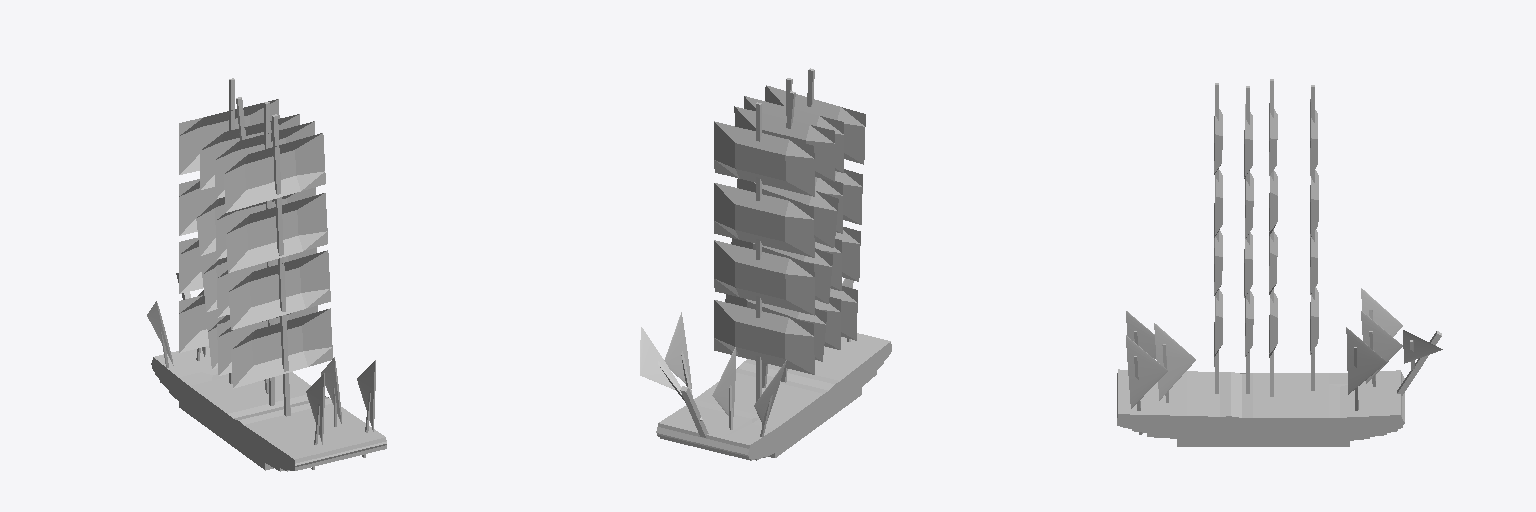
The model's file is clipper.obj.
3 renders of one model, left to right at view 1: azimuth 30°, elevation 25°; view 2: azimuth 150°, elevation 25°; view 3: azimuth 270°, elevation 25°, orthographic.
Visible parts, largest first — view 1: Cube_Cube.010, Plane.008_Plane.036, Plane.009_Plane.037, Plane.010_Plane.038, Plane.007_Plane.035, Plane.015_Plane.017, Plane.013_Plane.041, Plane.002_Plane.032, Plane.004_Plane.008, Cube.013_Cube.030, Plane.005_Plane.009, Plane.016_Plane.018 (+9 smaller); view 2: Cube_Cube.010, Plane.005_Plane.009, Plane.015_Plane.017, Plane.016_Plane.018, Plane.004_Plane.008, Plane.002_Plane.032, Plane.008_Plane.036, Plane.001_Plane.031, Plane.013_Plane.041, Plane.003_Plane.033, Plane.006_Plane.034, Plane.007_Plane.035 (+10 smaller); view 3: Cube_Cube.010, Cone.004, Cone.006, Cone, Cone.002, Cone.005, Cone.003, Cone.001.
Boxes of the visible parts, <box> form: Cube_Cube.010: <box>151,346,386,471</box>; Plane.008_Plane.036: <box>223,133,325,212</box>; Plane.009_Plane.037: <box>228,250,330,329</box>; Plane.010_Plane.038: <box>230,308,332,388</box>; Plane.007_Plane.035: <box>225,193,327,272</box>; Plane.015_Plane.017: <box>179,99,279,174</box>; Plane.013_Plane.041: <box>214,121,314,198</box>; Plane.002_Plane.032: <box>199,114,299,189</box>; Plane.004_Plane.008: <box>179,295,217,352</box>; Cube.013_Cube.030: <box>275,200,290,416</box>; Plane.005_Plane.009: <box>179,238,215,293</box>; Plane.016_Plane.018: <box>179,179,215,235</box>; Cube_Cube.010: <box>656,333,891,460</box>; Plane.005_Plane.009: <box>714,240,814,315</box>; Plane.015_Plane.017: <box>714,121,814,196</box>; Plane.016_Plane.018: <box>714,183,814,257</box>; Plane.004_Plane.008: <box>714,300,814,374</box>; Plane.002_Plane.032: <box>734,106,834,181</box>; Plane.008_Plane.036: <box>765,85,865,164</box>; Plane.001_Plane.031: <box>737,178,838,247</box>; Plane.013_Plane.041: <box>744,96,843,172</box>; Plane.003_Plane.033: <box>731,238,832,303</box>; Plane.006_Plane.034: <box>725,294,826,361</box>; Plane.007_Plane.035: <box>835,169,862,224</box>; Cube_Cube.010: <box>1117,369,1404,446</box>; Cone.004: <box>1126,335,1167,408</box>; Cone.006: <box>1154,323,1195,400</box>; Cone: <box>1346,327,1386,394</box>; Cone.002: <box>1361,311,1402,383</box>; Cone.005: <box>1361,288,1402,336</box>; Cone.003: <box>1126,311,1155,358</box>; Cone.001: <box>1403,330,1442,363</box>.
Bounding box in the file's own units: 4.3 × 10.36 × 9.22.